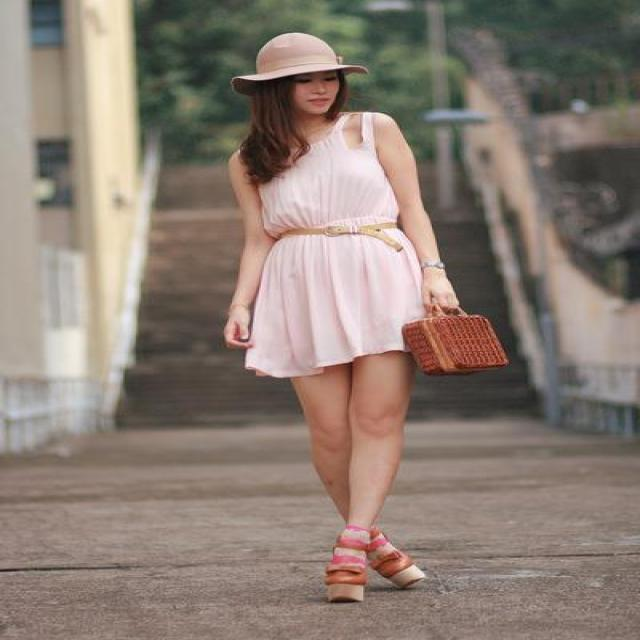bag: (382, 304, 508, 378)
dress: (245, 112, 421, 377)
hat: (250, 33, 358, 79)
shoe: (320, 566, 419, 600)
